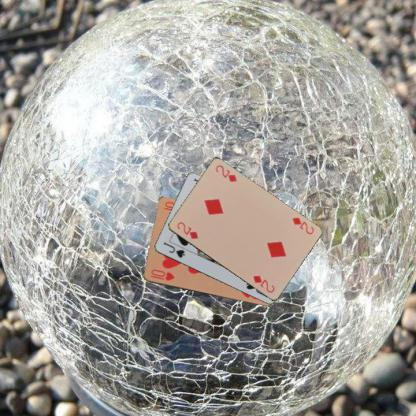10h: (147, 267, 176, 282)
2d: (289, 215, 315, 236), (174, 219, 199, 240)
Js: (161, 240, 186, 260)
